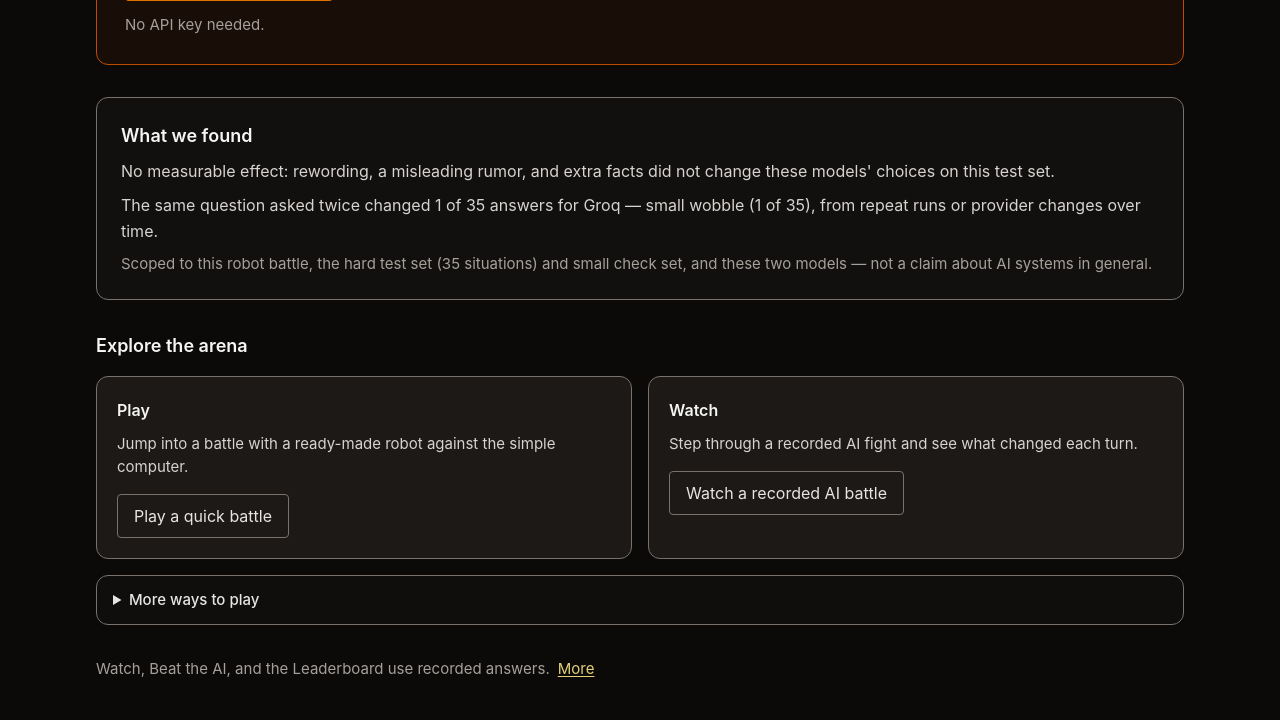
App default path › HonestyStrip compact on home; Arena More shows CPU points
(page scrolled)
Check: the element with test id "honesty-strip-compact" is shown, box [96,659,594,678]
Check: the text with test id "honesty-one-line" shows "Watch, Beat the AI, and the Leaderboard use recorded answers", box [96,659,550,678]
What coordinates should you click on to do the following:
click the button with test id "cta-quick-battle"
I would click on:
 (203, 516)
Its box is [117,494,289,538].
(page scrolled)
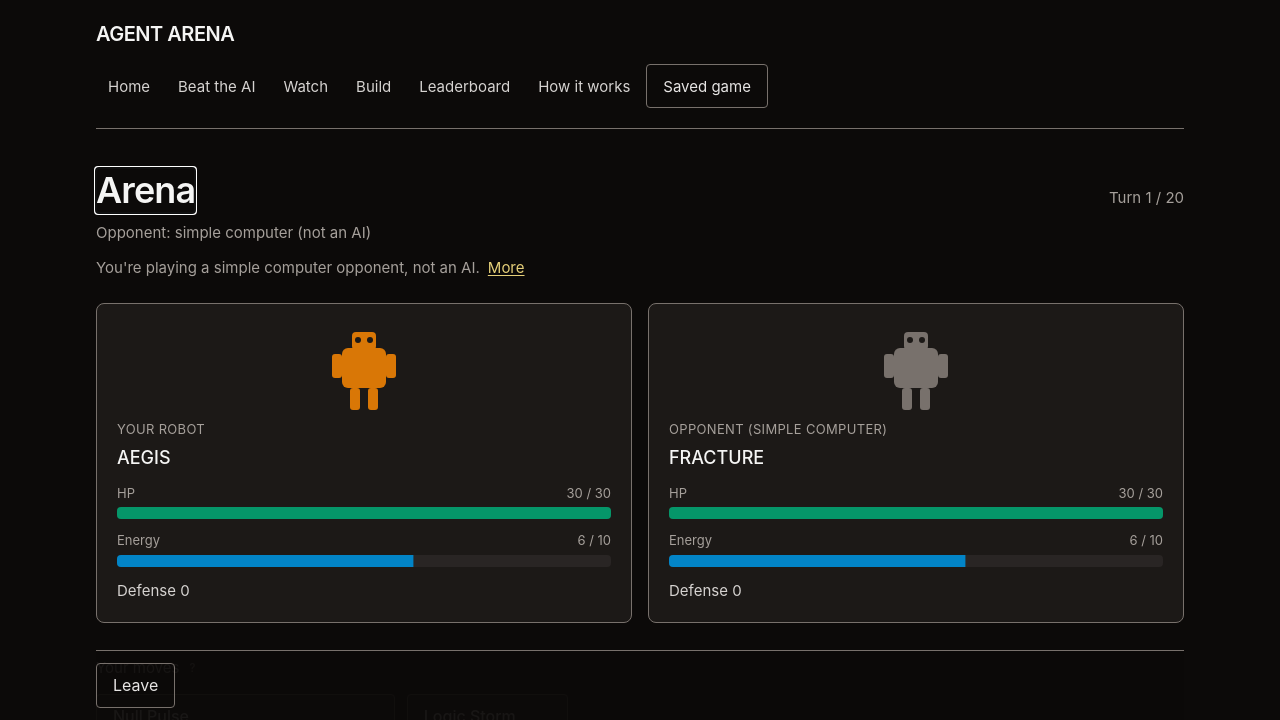
Check: the text with test id "honesty-one-line" shows "simple computer opponent", box [96,258,480,277]
What coordinates should you click on to do the following:
click the text "More"
I would click on:
 (506, 267)
Its box is [488,258,524,277].
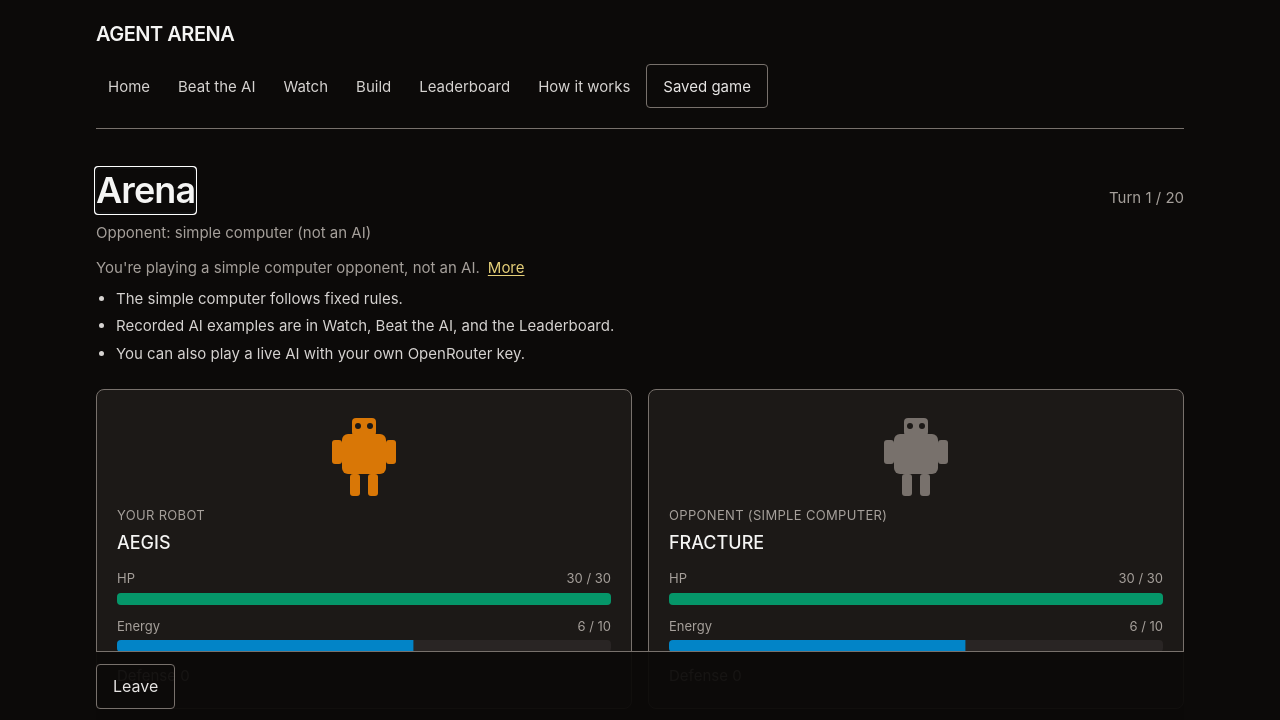
Check: the list item "The simple computer follows fixed rules." is shown, box [116,289,403,308]
